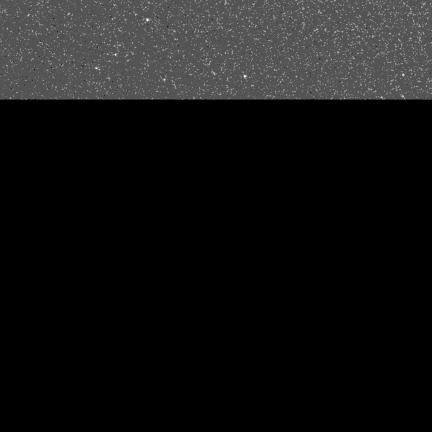blob: (403, 74, 405, 77), (146, 19, 149, 21)
